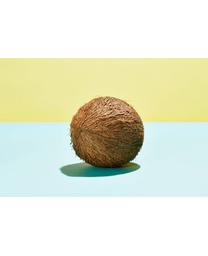coconut: (70, 96, 145, 168)
